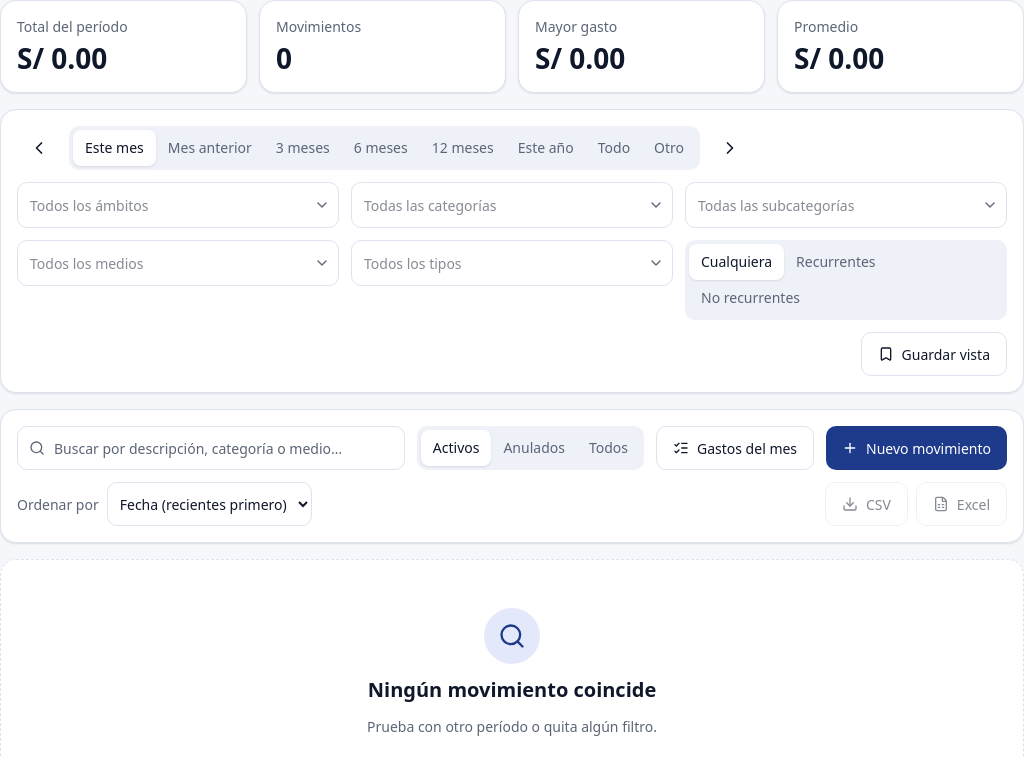
Movimientos · lista › ordenar por una columna alterna el sentido y lo anuncia
Click the radio button labelled "Todo".
click(614, 148)  # box [586,130,642,166]
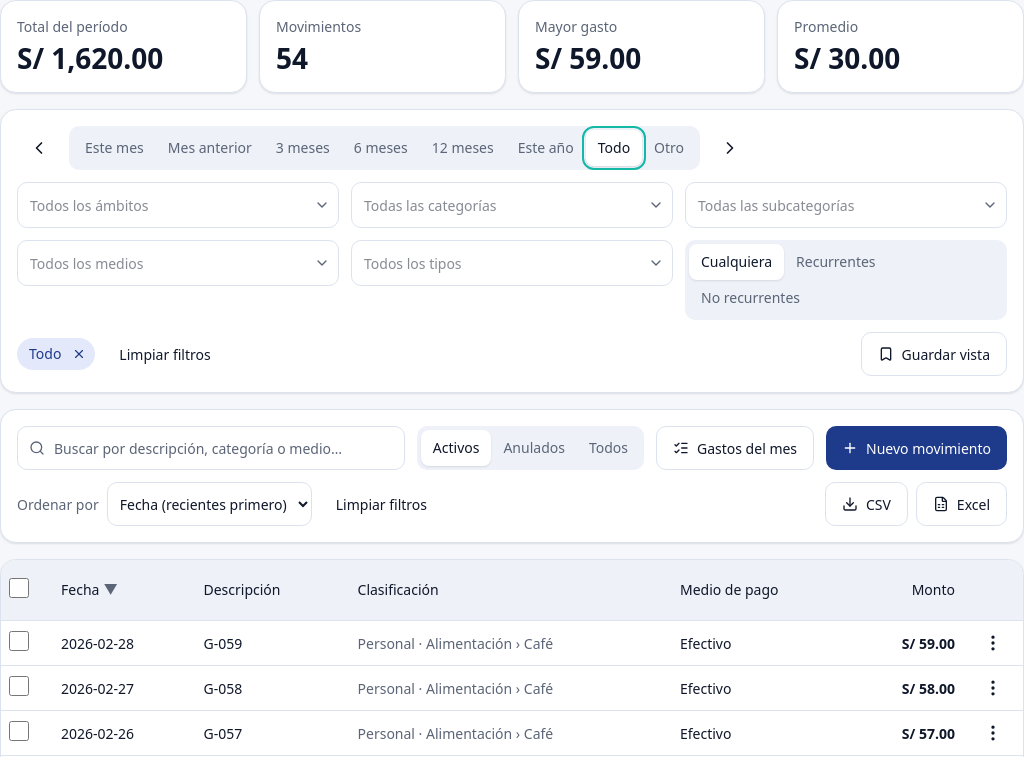
Click the button "Monto".
click(931, 590)  # box [908,568,955,612]
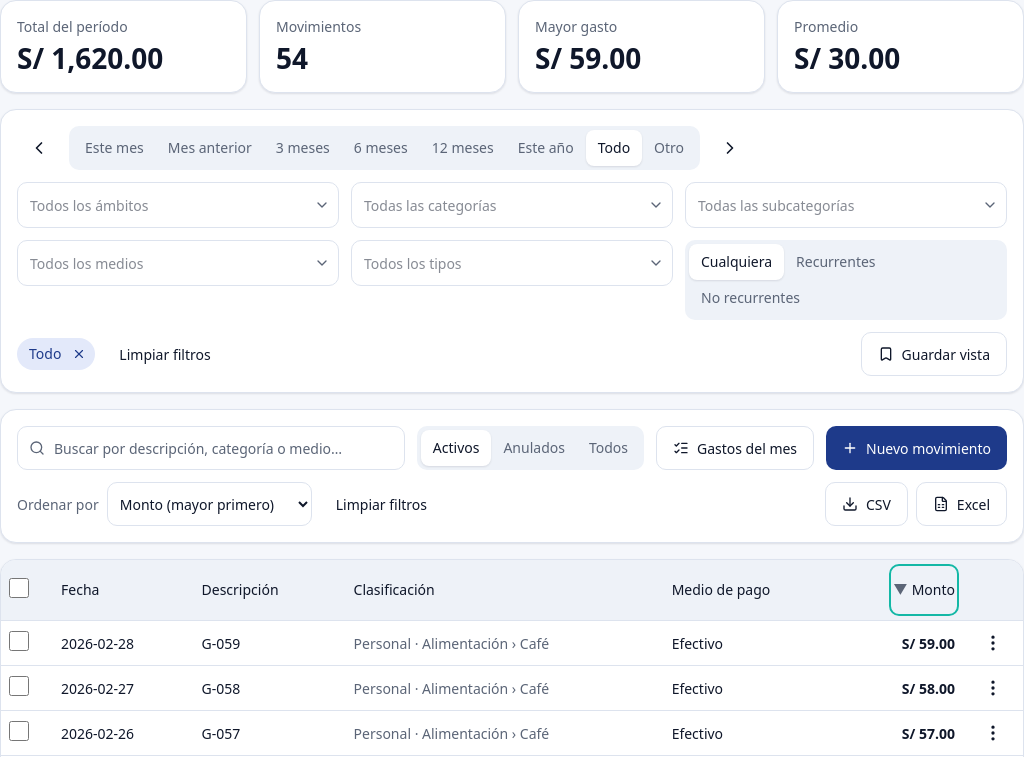
Now the column heading "Monto ▼" has attribute aria-sort="descending", box [843,560,967,620]
Click the button "Monto ▼".
click(924, 590)  # box [893,568,955,612]
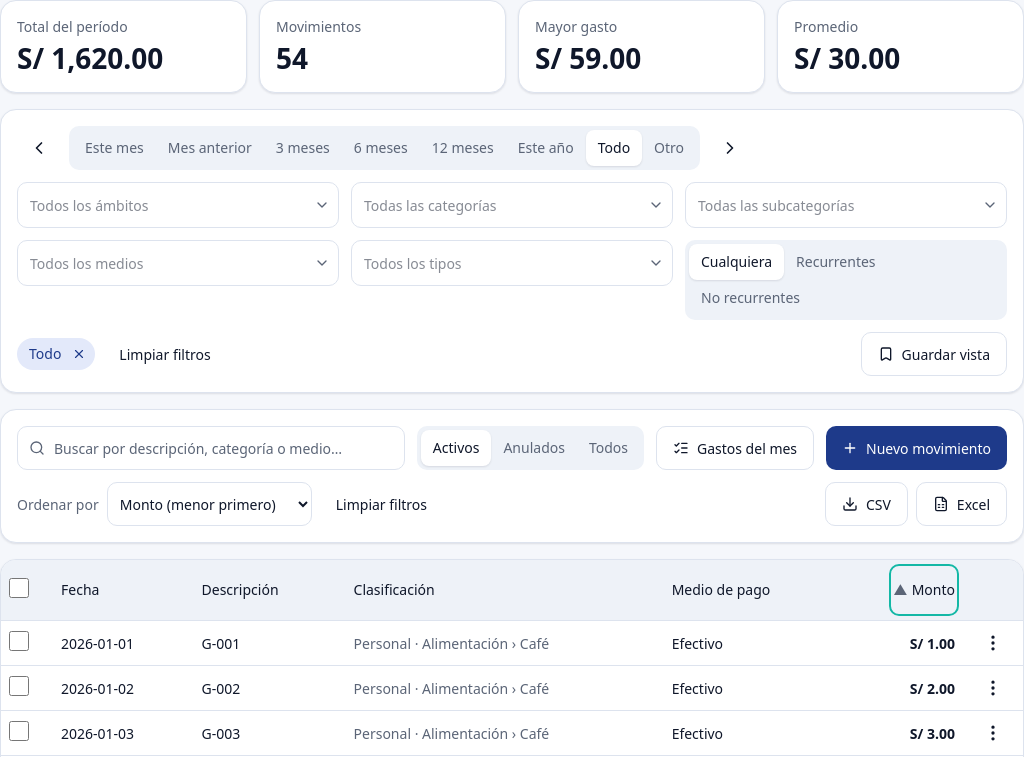
Now the text "G-001" is shown, box [202,632,240,654]
